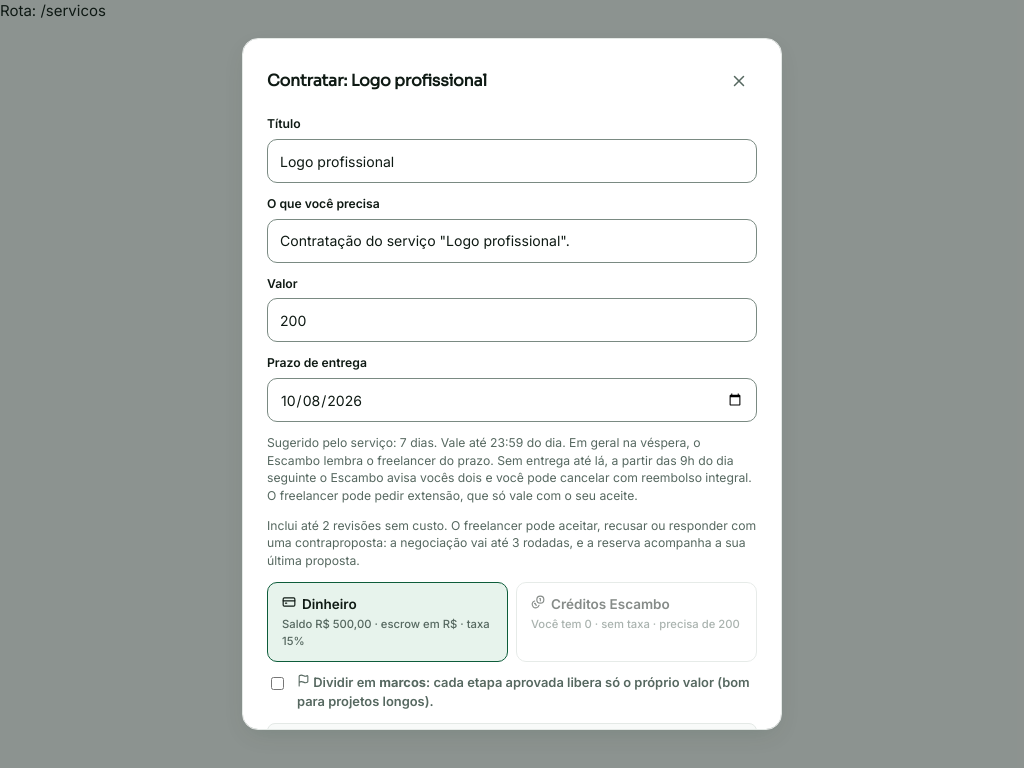
Test: ContratarModal: proposta em dinheiro › abaixo do mínimo de R$ 10 o envio fica travado
Replace the text in the number field labelled "Valor" with "9.99": {"x": 512, "y": 320} [267,298,757,342]
(page scrolled)
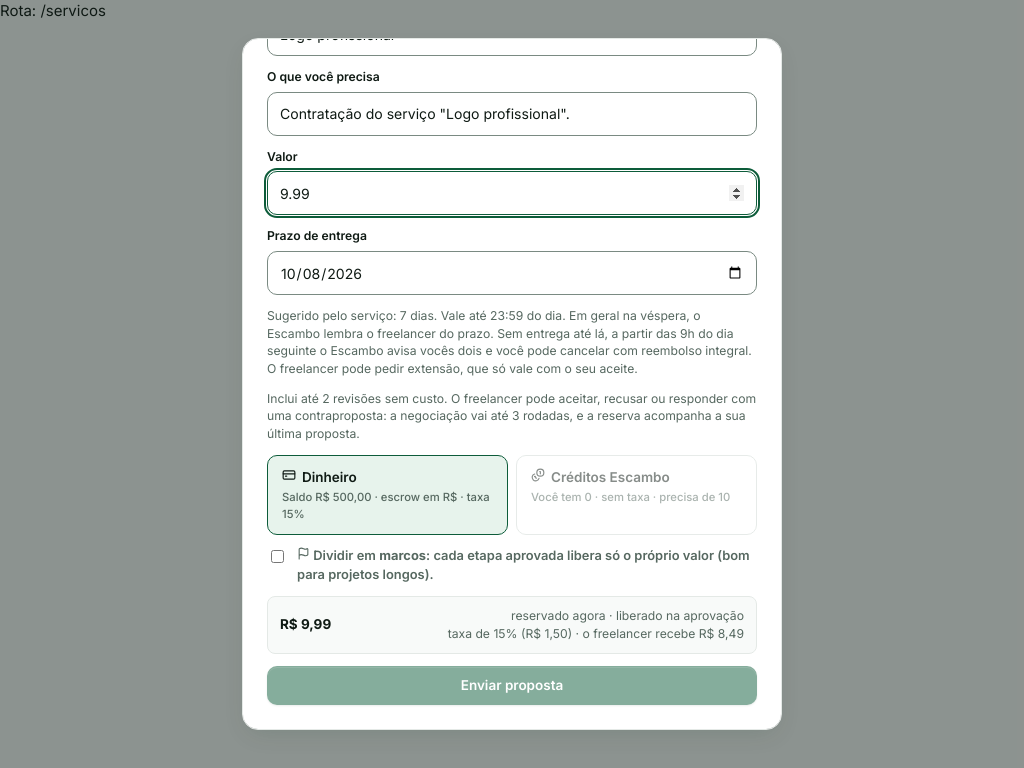
Check: the button "Enviar proposta" is disabled
Click the button "Enviar proposta": {"x": 512, "y": 685} [267,666,757,705]
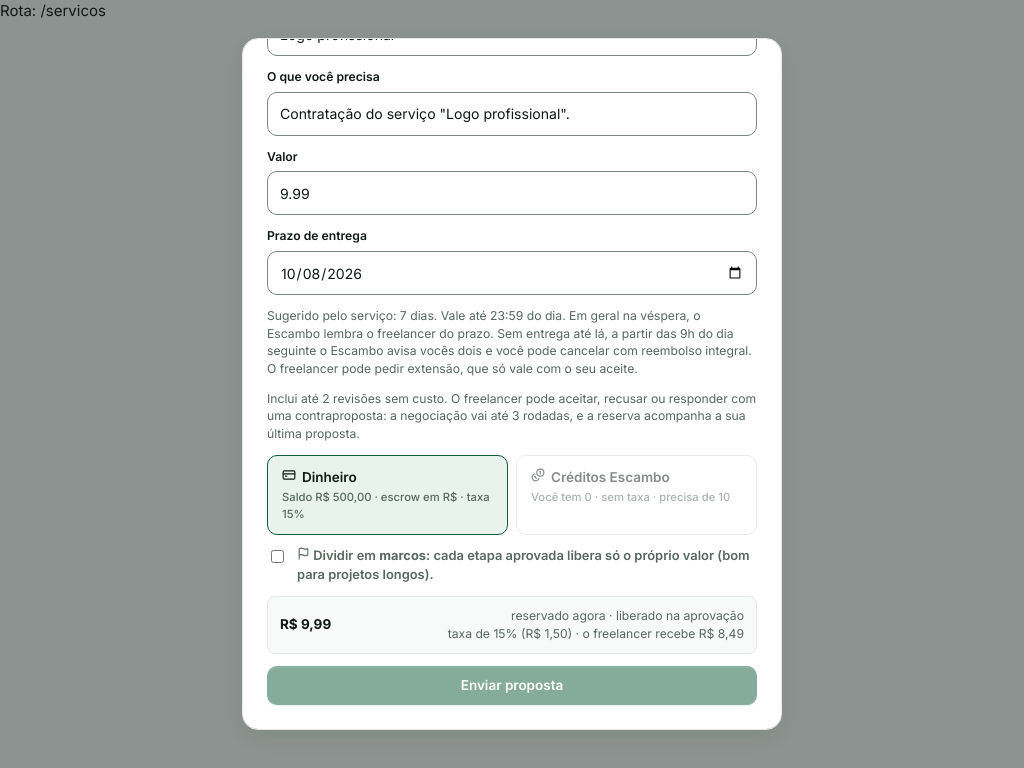
Replace the text in the number field labelled "Valor" with "10": {"x": 512, "y": 193} [267,171,757,215]
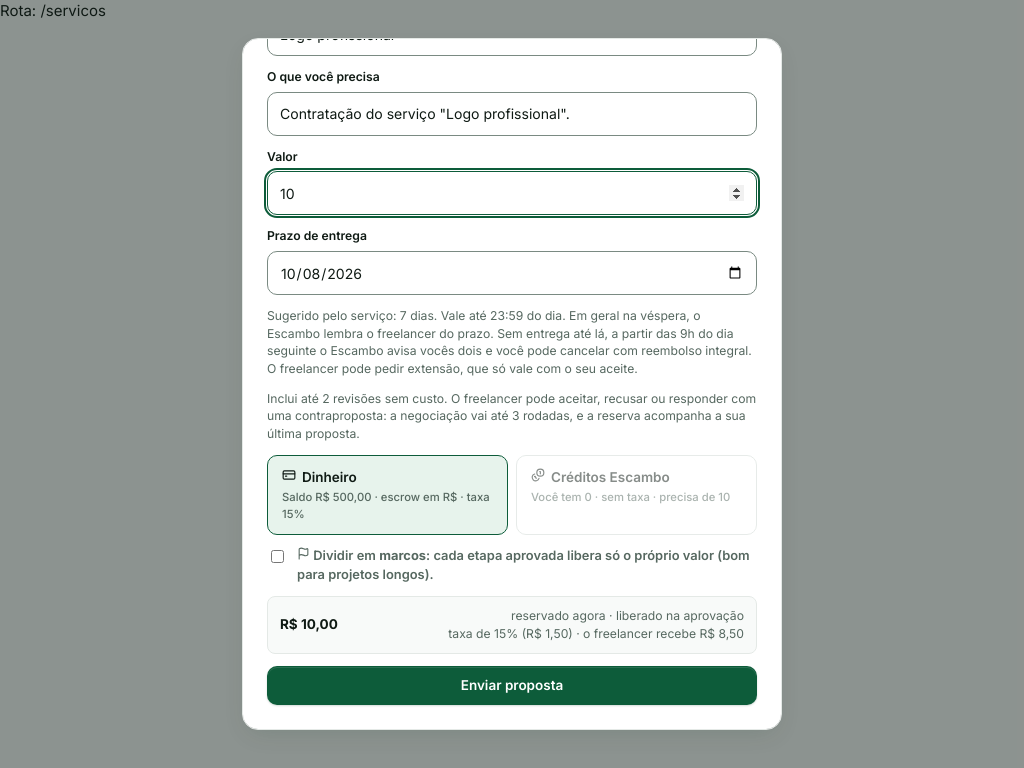
Check: the button "Enviar proposta" is enabled, box [267,666,757,705]
